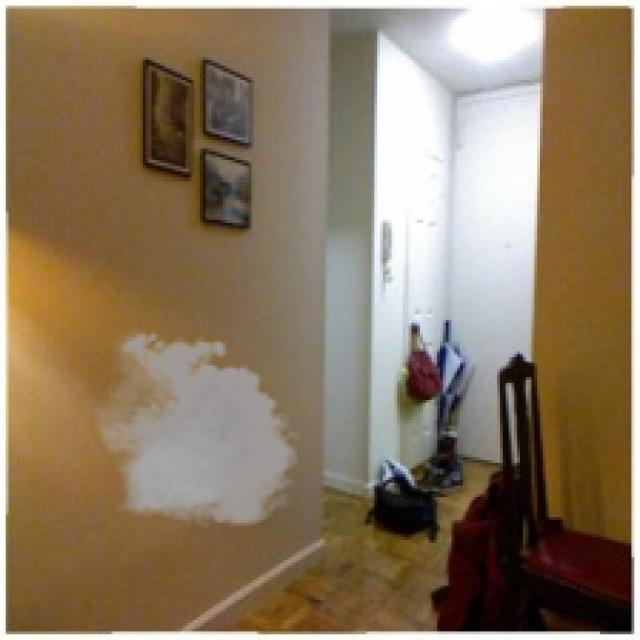Smoke: (86, 326, 306, 534)
